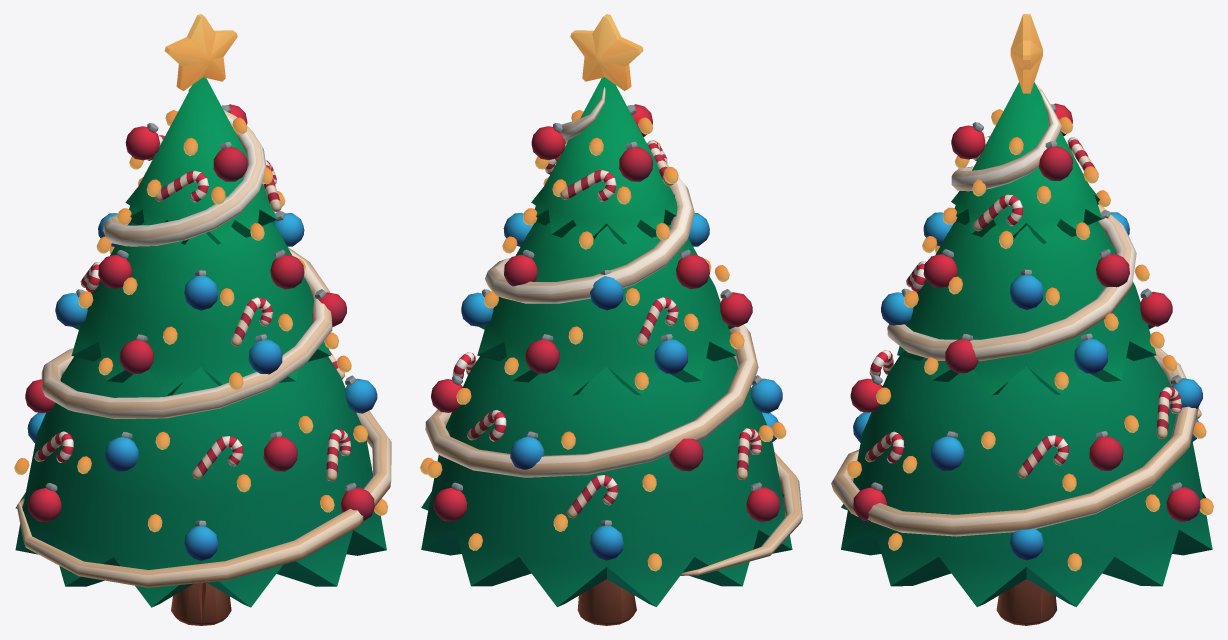
File: christmas_tree.glb
3 renders of one model, left to right at view 1: azimuth 30°, elevation 25°; view 2: azimuth 150°, elevation 25°; view 3: azimuth 270°, elevation 25°, orthographic.
Parts seen in each view (by area): view 1: christmas_tree; view 2: christmas_tree; view 3: christmas_tree.
Boxes of the visible parts, x1,y1,x2,y2 form: christmas_tree: (14,14,391,625); christmas_tree: (420,14,802,625); christmas_tree: (831,14,1213,625).
Bounding box in the file's own units: 2.41 × 4.03 × 2.33.
2 materials, 2 textured.
